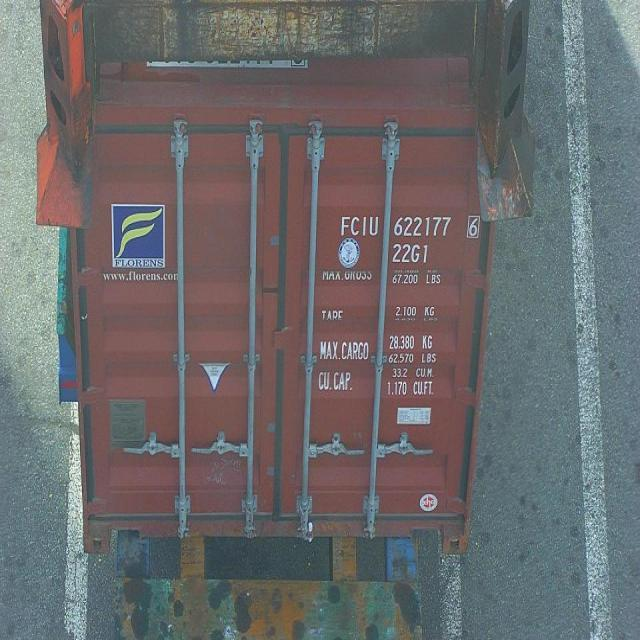ISO: (392, 242, 430, 266)
container_number: (342, 211, 482, 240)
